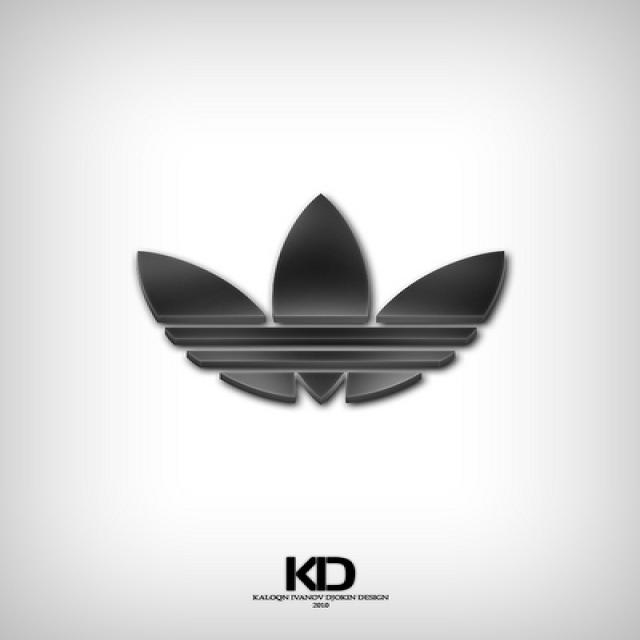adidas: (129, 189, 524, 412)
